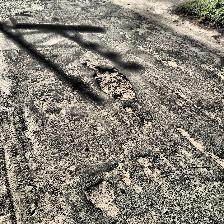pothole: (83, 61, 136, 100), (83, 178, 119, 216), (72, 81, 94, 101), (209, 150, 223, 168), (159, 58, 177, 68)
